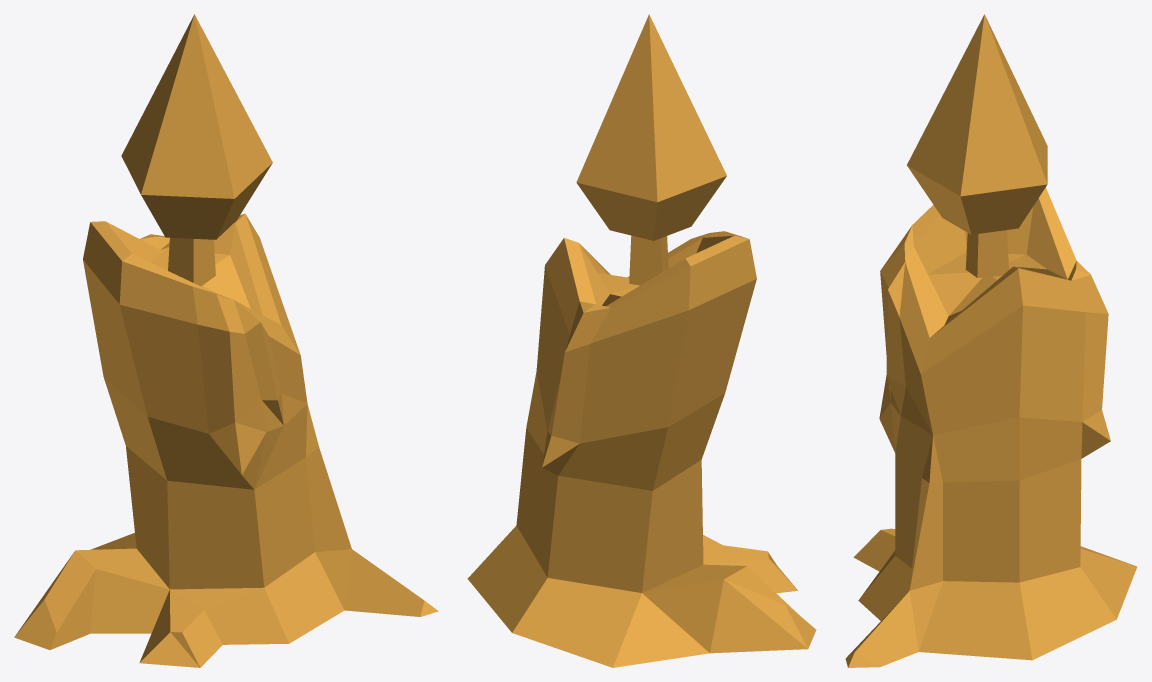
Rendered from candle-stick-c-lit.fbx.
3 views of the same model, side by side, from view 1: azimuth 30°, elevation 25°; view 2: azimuth 150°, elevation 25°; view 3: azimuth 270°, elevation 25° (orthographic). The views are drawn at different scales.
Visible parts, largest first — view 1: candle-stick-c-lit; view 2: candle-stick-c-lit; view 3: candle-stick-c-lit.
Boxes of the visible parts, x1=… form: candle-stick-c-lit: x1=14, y1=14, x2=438, y2=667; candle-stick-c-lit: x1=467, y1=14, x2=816, y2=667; candle-stick-c-lit: x1=845, y1=14, x2=1137, y2=667.
Bounding box in the file's own units: 0.0733 × 0.1199 × 0.0554.
